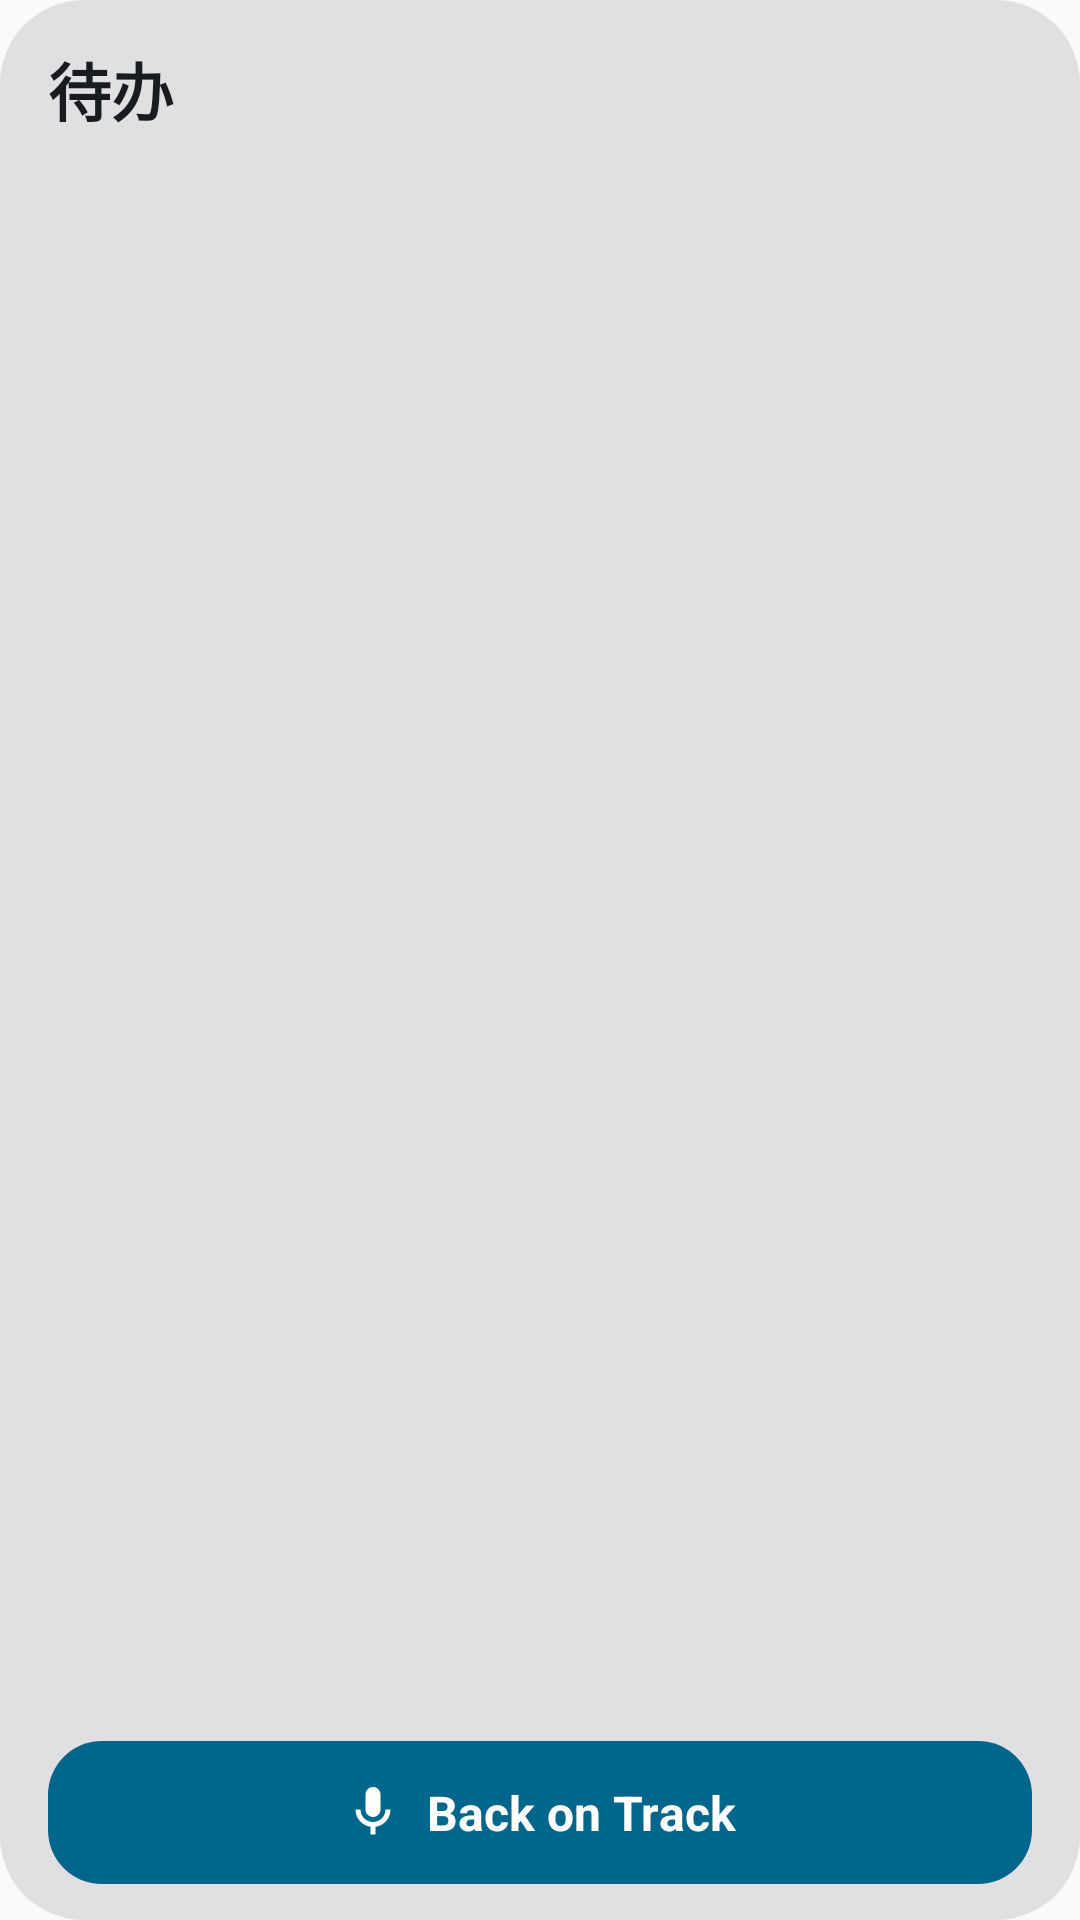

Locate icon controls on the screen. Image size 1080x1920, boxes as (x1, y1, x2, y2).
说点什么: (355, 1787, 391, 1835)
